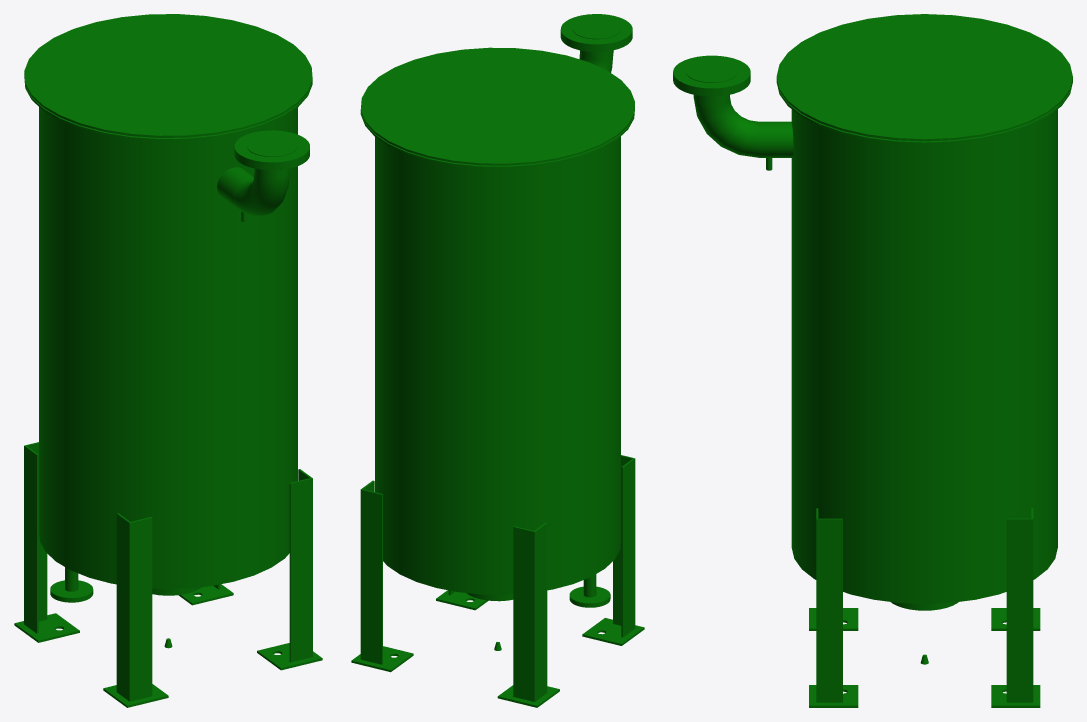
File: Image-1710907701195-2280757769024_27-CB62.fbx
3 renders of one model, left to right at view 1: azimuth 30°, elevation 25°; view 2: azimuth 150°, elevation 25°; view 3: azimuth 270°, elevation 25°, orthographic. The views are drawn at different scales.
Visible parts, largest first — view 1: CYLINDER 3 of SUBEQUIPMENT 1 of EQUIPMENT /27-CB62, CYLINDER 1 of SUBEQUIPMENT 1 of EQUIPMENT /27-CB62, BOX 8 of SUBEQUIPMENT 1 of EQUIPMENT /27-CB62, BOX 7 of SUBEQUIPMENT 1 of EQUIPMENT /27-CB62, BOX 1 of SUBEQUIPMENT 1 of EQUIPMENT /27-CB62, /27-CB62/OUTLET, CTORUS 1 of SUBEQUIPMENT 1 of EQUIPMENT /27-CB62, CYLINDER 2 of SUBEQUIPMENT 1 of EQUIPMENT /27-CB62, /27-CB62/N1142, BOX 2 of SUBEQUIPMENT 1 of EQUIPMENT /27-CB62, BOX 4 of SUBEQUIPMENT 1 of EQUIPMENT /27-CB62, CYLINDER 6 of SUBEQUIPMENT 1 of EQUIPMENT /27-CB62 (+2 smaller); view 2: CYLINDER 3 of SUBEQUIPMENT 1 of EQUIPMENT /27-CB62, CYLINDER 1 of SUBEQUIPMENT 1 of EQUIPMENT /27-CB62, BOX 1 of SUBEQUIPMENT 1 of EQUIPMENT /27-CB62, BOX 6 of SUBEQUIPMENT 1 of EQUIPMENT /27-CB62, BOX 8 of SUBEQUIPMENT 1 of EQUIPMENT /27-CB62, /27-CB62/OUTLET, CYLINDER 2 of SUBEQUIPMENT 1 of EQUIPMENT /27-CB62, /27-CB62/N1142, BOX 5 of SUBEQUIPMENT 1 of EQUIPMENT /27-CB62, BOX 3 of SUBEQUIPMENT 1 of EQUIPMENT /27-CB62, BOX 4 of SUBEQUIPMENT 1 of EQUIPMENT /27-CB62, BOX 2 of SUBEQUIPMENT 1 of EQUIPMENT /27-CB62; view 3: CYLINDER 3 of SUBEQUIPMENT 1 of EQUIPMENT /27-CB62, CYLINDER 1 of SUBEQUIPMENT 1 of EQUIPMENT /27-CB62, BOX 6 of SUBEQUIPMENT 1 of EQUIPMENT /27-CB62, BOX 7 of SUBEQUIPMENT 1 of EQUIPMENT /27-CB62, /27-CB62/OUTLET, CTORUS 1 of SUBEQUIPMENT 1 of EQUIPMENT /27-CB62, CYLINDER 6 of SUBEQUIPMENT 1 of EQUIPMENT /27-CB62, CYLINDER 2 of SUBEQUIPMENT 1 of EQUIPMENT /27-CB62, BOX 4 of SUBEQUIPMENT 1 of EQUIPMENT /27-CB62, BOX 3 of SUBEQUIPMENT 1 of EQUIPMENT /27-CB62.
Part boxes in pixels (<box>): CYLINDER 3 of SUBEQUIPMENT 1 of EQUIPMENT /27-CB62: <box>39,107,297,588</box>; CYLINDER 1 of SUBEQUIPMENT 1 of EQUIPMENT /27-CB62: <box>24,14,312,137</box>; BOX 8 of SUBEQUIPMENT 1 of EQUIPMENT /27-CB62: <box>116,513,152,701</box>; BOX 7 of SUBEQUIPMENT 1 of EQUIPMENT /27-CB62: <box>289,469,312,662</box>; BOX 1 of SUBEQUIPMENT 1 of EQUIPMENT /27-CB62: <box>24,442,47,633</box>; /27-CB62/OUTLET: <box>234,130,309,178</box>; CTORUS 1 of SUBEQUIPMENT 1 of EQUIPMENT /27-CB62: <box>234,172,289,216</box>; CYLINDER 2 of SUBEQUIPMENT 1 of EQUIPMENT /27-CB62: <box>24,76,312,141</box>; /27-CB62/N1142: <box>50,567,93,602</box>; BOX 2 of SUBEQUIPMENT 1 of EQUIPMENT /27-CB62: <box>14,613,79,642</box>; BOX 4 of SUBEQUIPMENT 1 of EQUIPMENT /27-CB62: <box>257,643,322,670</box>; CYLINDER 6 of SUBEQUIPMENT 1 of EQUIPMENT /27-CB62: <box>217,167,253,209</box>; CYLINDER 3 of SUBEQUIPMENT 1 of EQUIPMENT /27-CB62: <box>375,136,620,594</box>; CYLINDER 1 of SUBEQUIPMENT 1 of EQUIPMENT /27-CB62: <box>360,47,634,165</box>; BOX 1 of SUBEQUIPMENT 1 of EQUIPMENT /27-CB62: <box>513,522,547,701</box>; BOX 6 of SUBEQUIPMENT 1 of EQUIPMENT /27-CB62: <box>360,480,382,664</box>; BOX 8 of SUBEQUIPMENT 1 of EQUIPMENT /27-CB62: <box>613,455,635,637</box>; /27-CB62/OUTLET: <box>560,14,632,59</box>; CYLINDER 2 of SUBEQUIPMENT 1 of EQUIPMENT /27-CB62: <box>360,108,634,168</box>; /27-CB62/N1142: <box>569,574,610,607</box>; BOX 5 of SUBEQUIPMENT 1 of EQUIPMENT /27-CB62: <box>582,618,644,645</box>; BOX 3 of SUBEQUIPMENT 1 of EQUIPMENT /27-CB62: <box>351,646,413,672</box>; BOX 4 of SUBEQUIPMENT 1 of EQUIPMENT /27-CB62: <box>436,590,488,610</box>; BOX 2 of SUBEQUIPMENT 1 of EQUIPMENT /27-CB62: <box>497,685,559,707</box>; CYLINDER 3 of SUBEQUIPMENT 1 of EQUIPMENT /27-CB62: <box>791,109,1057,603</box>; CYLINDER 1 of SUBEQUIPMENT 1 of EQUIPMENT /27-CB62: <box>776,14,1072,141</box>; BOX 6 of SUBEQUIPMENT 1 of EQUIPMENT /27-CB62: <box>1006,508,1033,702</box>; BOX 7 of SUBEQUIPMENT 1 of EQUIPMENT /27-CB62: <box>816,508,842,702</box>; /27-CB62/OUTLET: <box>673,55,750,104</box>; CTORUS 1 of SUBEQUIPMENT 1 of EQUIPMENT /27-CB62: <box>694,98,758,157</box>; CYLINDER 6 of SUBEQUIPMENT 1 of EQUIPMENT /27-CB62: <box>758,121,793,157</box>; CYLINDER 2 of SUBEQUIPMENT 1 of EQUIPMENT /27-CB62: <box>776,79,1072,144</box>; BOX 4 of SUBEQUIPMENT 1 of EQUIPMENT /27-CB62: <box>809,685,858,707</box>; BOX 3 of SUBEQUIPMENT 1 of EQUIPMENT /27-CB62: <box>991,685,1040,707</box>.
Bounding box in the file's own units: 0.724 × 0.977 × 1.59.
